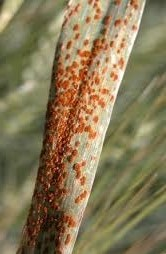Leaf Rust: (31, 21, 130, 228)
